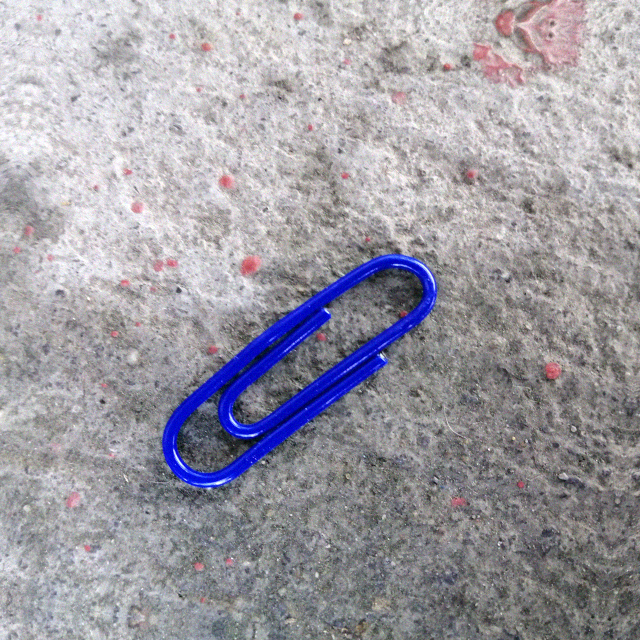pin: (160, 224, 435, 525)
